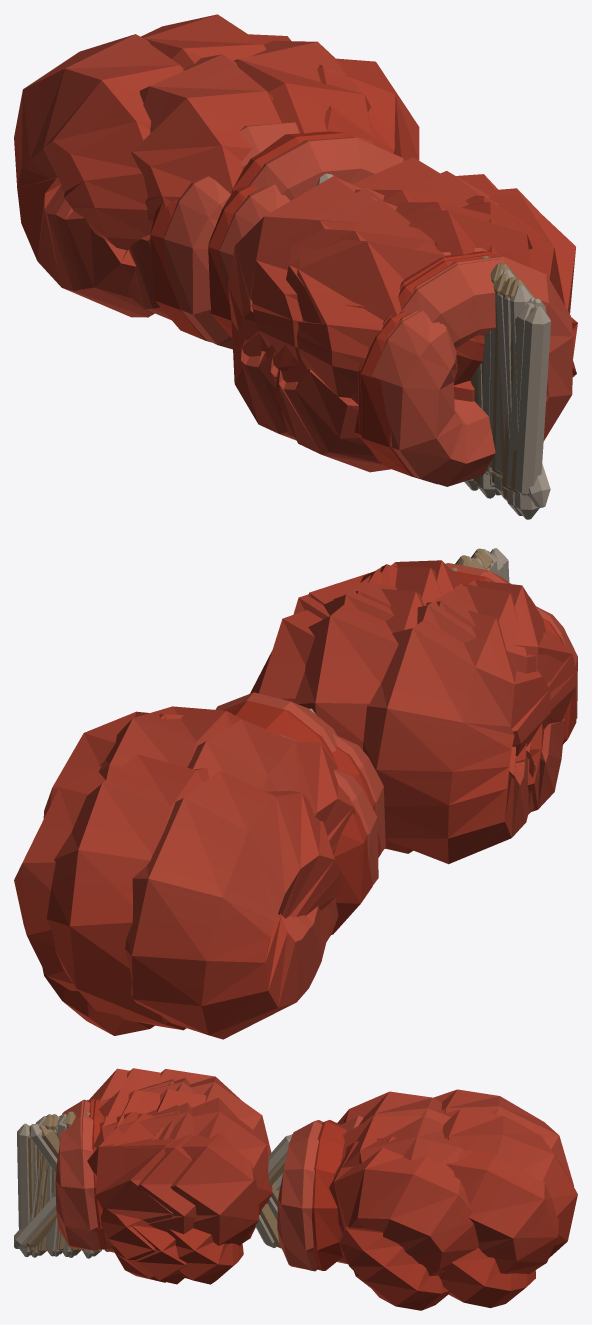
Rendered from Robot_mech_punch.fbx.
The picture shows the model from 3 angles, top to bottom: view 1: azimuth 30°, elevation 25°; view 2: azimuth 150°, elevation 25°; view 3: azimuth 270°, elevation 25°; orthographic projection. The views are drawn at different scales.
Parts seen in each view (by area): view 1: Punch; view 2: Punch; view 3: Punch.
Boxes of the visible parts, x1,y1,x2,y2 form: Punch: (14,14,577,519); Punch: (14,548,577,1039); Punch: (14,1068,577,1310).
Size of the model in its own units: 10.29 by 8.8 by 23.64.
